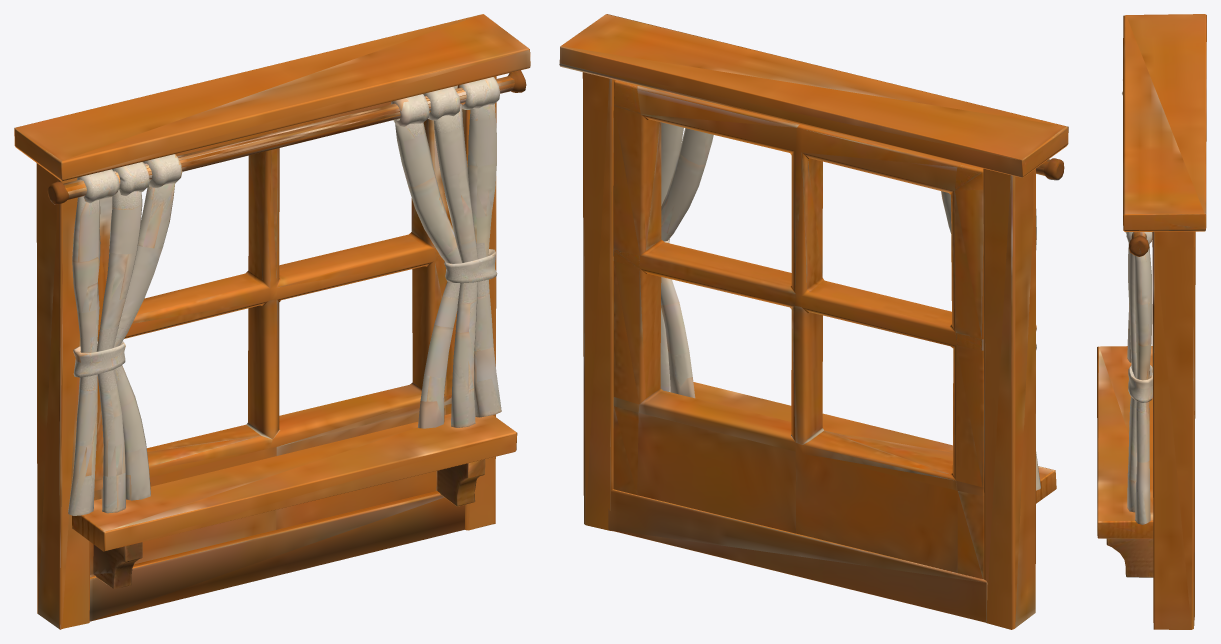
Rendered from room_window.glb.
3 renders of one model, left to right at view 1: azimuth 30°, elevation 25°; view 2: azimuth 150°, elevation 25°; view 3: azimuth 270°, elevation 25°, orthographic. The views are drawn at different scales.
Bounding box in the file's own units: 1 × 0.989 × 0.2323.
1 material, 1 textured.
